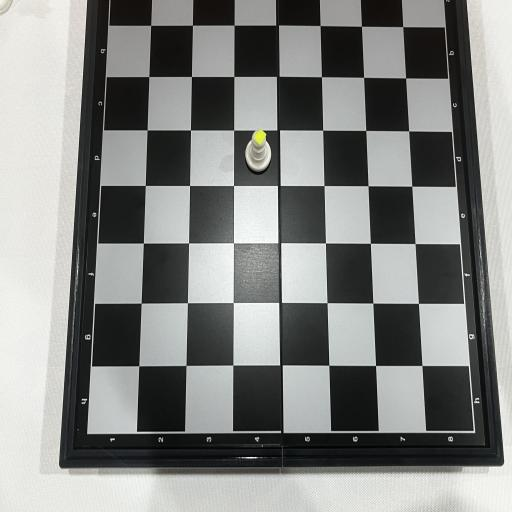White Pawn: (246, 130, 271, 172)
